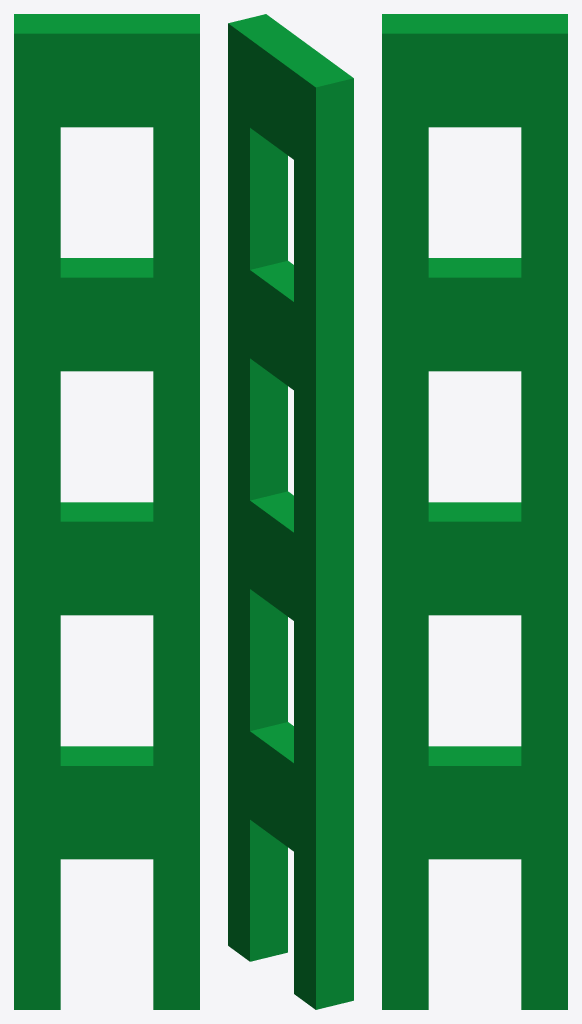
Rendered from advtrains_signals_ks_mast.obj.
The picture shows the model from 3 angles, left to right: view 1: azimuth 90°, elevation 25°; view 2: azimuth 210°, elevation 25°; view 3: azimuth 270°, elevation 25°; orthographic projection. The views are drawn at different scales.
Visible parts, largest first — view 1: MastVollNode_Plane.006; view 2: MastVollNode_Plane.006; view 3: MastVollNode_Plane.006.
Part boxes in pixels (x1,y1,x2,y2): MastVollNode_Plane.006: [14, 14, 199, 1009]; MastVollNode_Plane.006: [228, 14, 353, 1009]; MastVollNode_Plane.006: [382, 14, 567, 1009].
Bounding box in the file's own units: 0.0572 × 1.32 × 0.2284.
